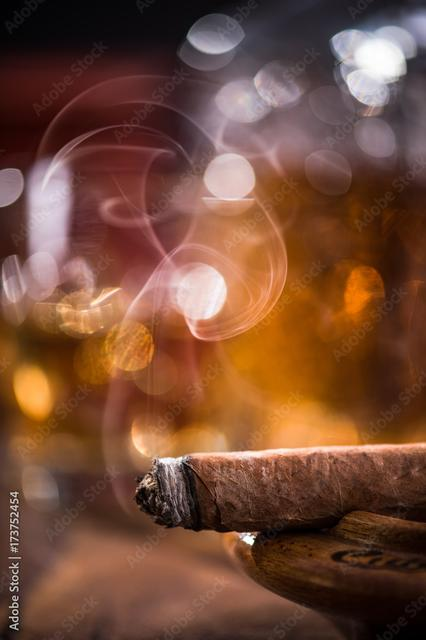Cigar: (133, 438, 426, 534)
